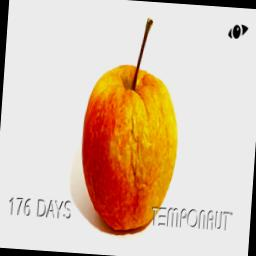Apple Overripe: (74, 0, 189, 238)
